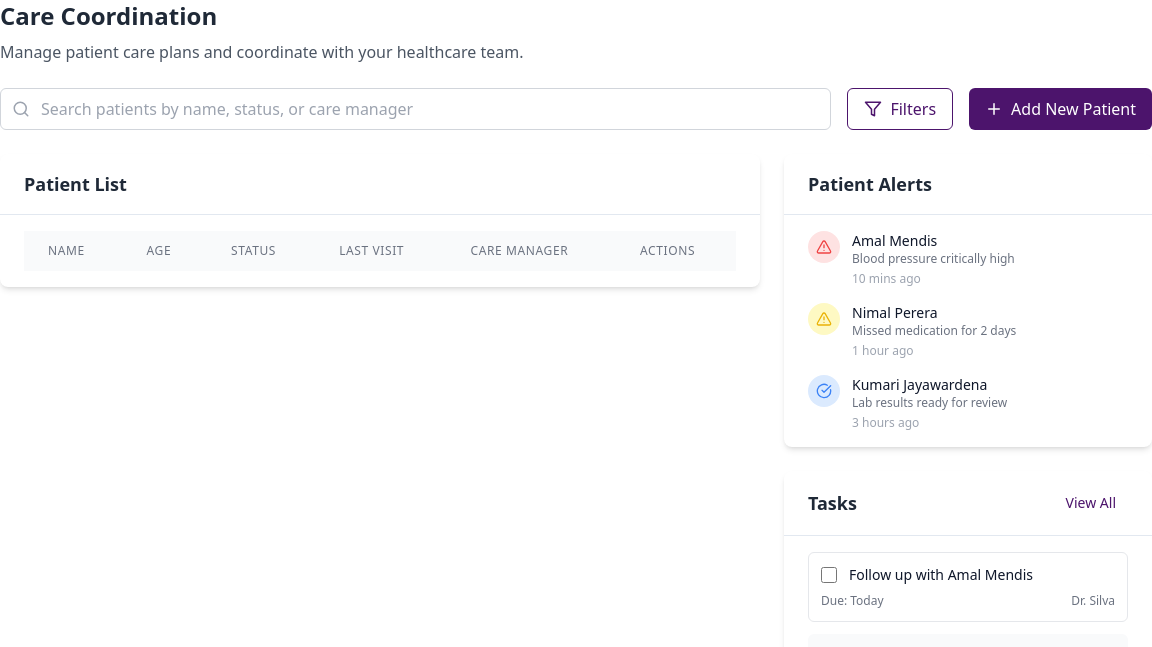
Test: CareCoordinationPage › should open add patient modal when button is clicked
Click the button "Add New Patient". click: (1061, 109)
box: [969,88,1151,130]
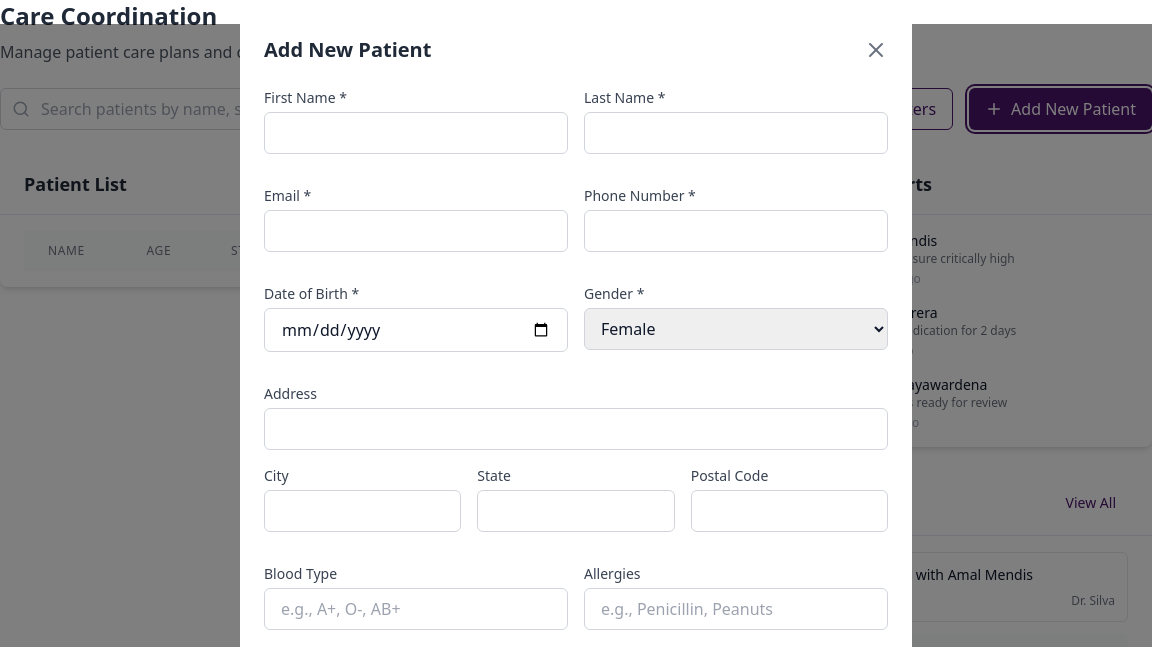
Check: the heading "Add New Patient" is shown, box [264,36,431,64]
Check: the text "First Name *" is shown, box [264,88,347,107]
Check: the text "Last Name *" is shown, box [584,88,665,107]
